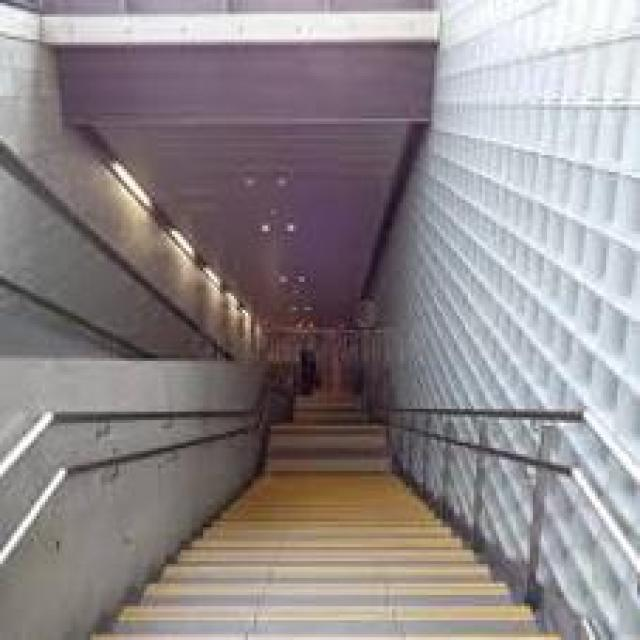stair: (144, 499, 479, 637)
